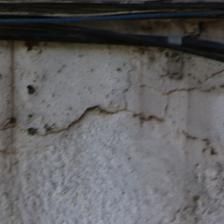Crack: (14, 35, 114, 124), (15, 77, 125, 147), (10, 72, 68, 99)
